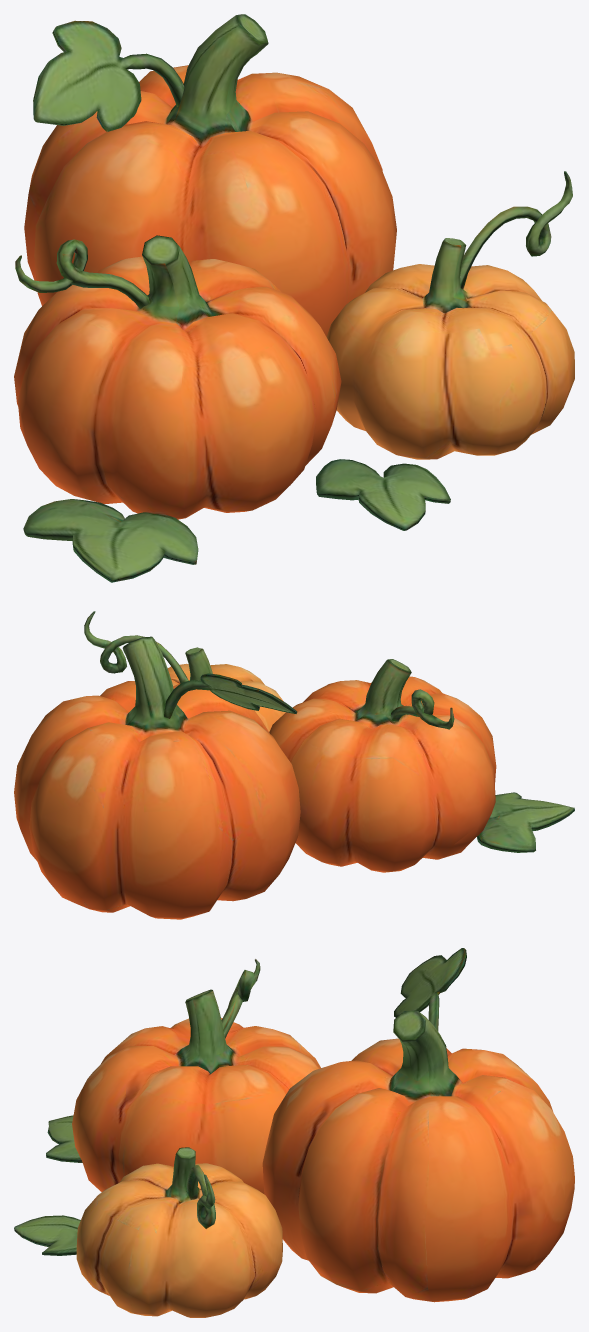
Rendered from item-pumpkins.glb.
3 renders of one model, top to bottom at view 1: azimuth 30°, elevation 25°; view 2: azimuth 150°, elevation 25°; view 3: azimuth 270°, elevation 25°, orthographic. The views are drawn at different scales.
Size of the model in its own units: 0.9126 by 0.4849 by 0.9541.
Materials: 1 (1 with a texture image).
